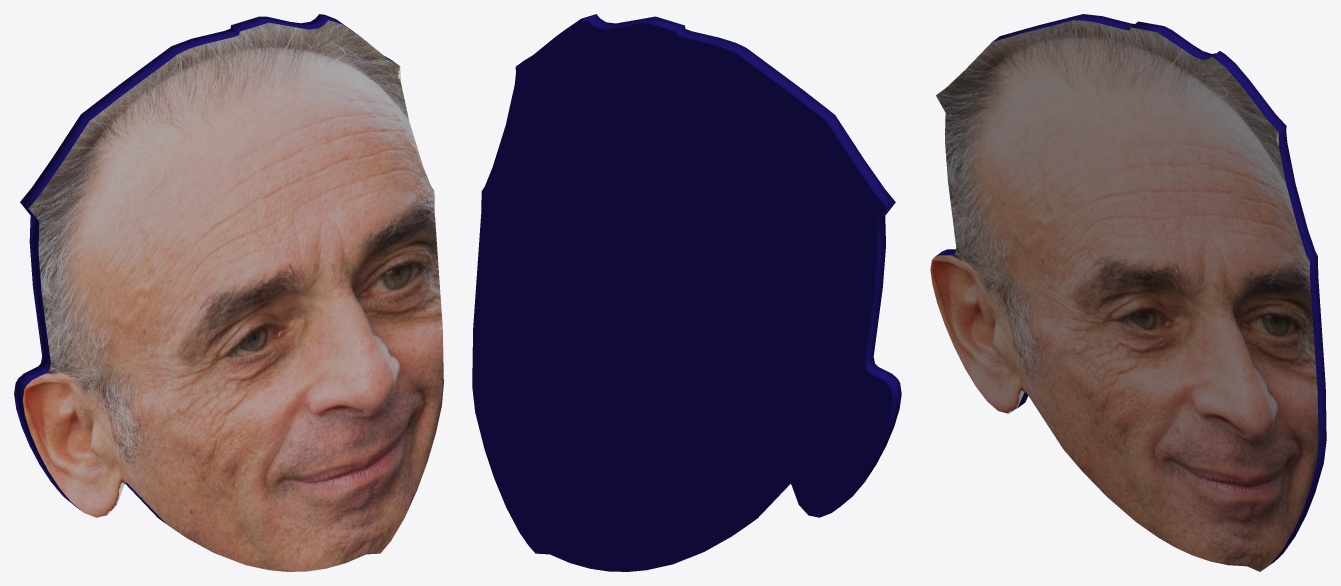
File: Eric_Zemmour.glb
3 renders of one model, left to right at view 1: azimuth 30°, elevation 25°; view 2: azimuth 150°, elevation 25°; view 3: azimuth 330°, elevation 25°, orthographic. The views are drawn at different scales.
Parts seen in each view (by area): view 1: Curve; view 2: Curve; view 3: Curve.
Boxes of the visible parts, left/top/right/bottom form: Curve: left=14, top=14, right=443, bottom=571; Curve: left=472, top=14, right=901, bottom=571; Curve: left=930, top=14, right=1326, bottom=571.
Size of the model in its own units: 0.7979 by 1.01 by 0.0286.
Materials: 2 (1 with a texture image).
